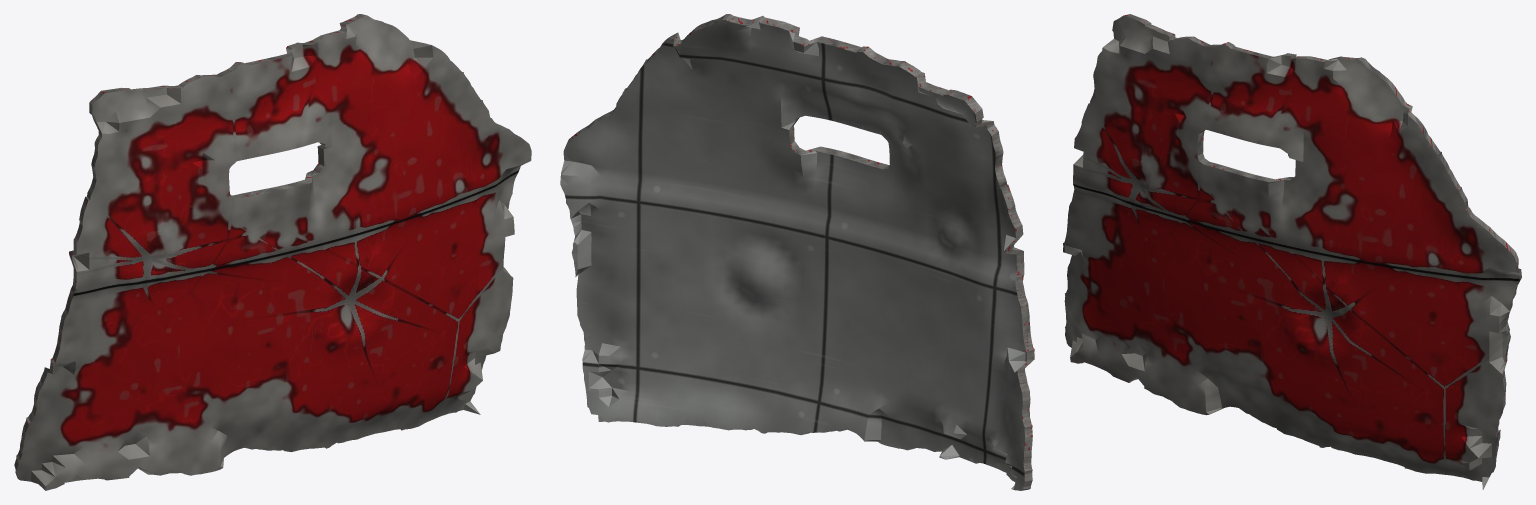
File: baymax_plating_shard.glb
3 renders of one model, left to right at view 1: azimuth 30°, elevation 25°; view 2: azimuth 150°, elevation 25°; view 3: azimuth 330°, elevation 25°, orthographic. The views are drawn at different scales.
Visible parts, largest first — view 1: baymax_plating_shard; view 2: baymax_plating_shard; view 3: baymax_plating_shard.
Boxes of the visible parts, box(x1,y1,x2,y2) form: baymax_plating_shard: box(14, 14, 531, 490); baymax_plating_shard: box(560, 14, 1034, 490); baymax_plating_shard: box(1063, 14, 1521, 489).
Bounding box in the file's own units: 0.7361 × 0.6152 × 0.1131.
3 materials, 3 textured.
